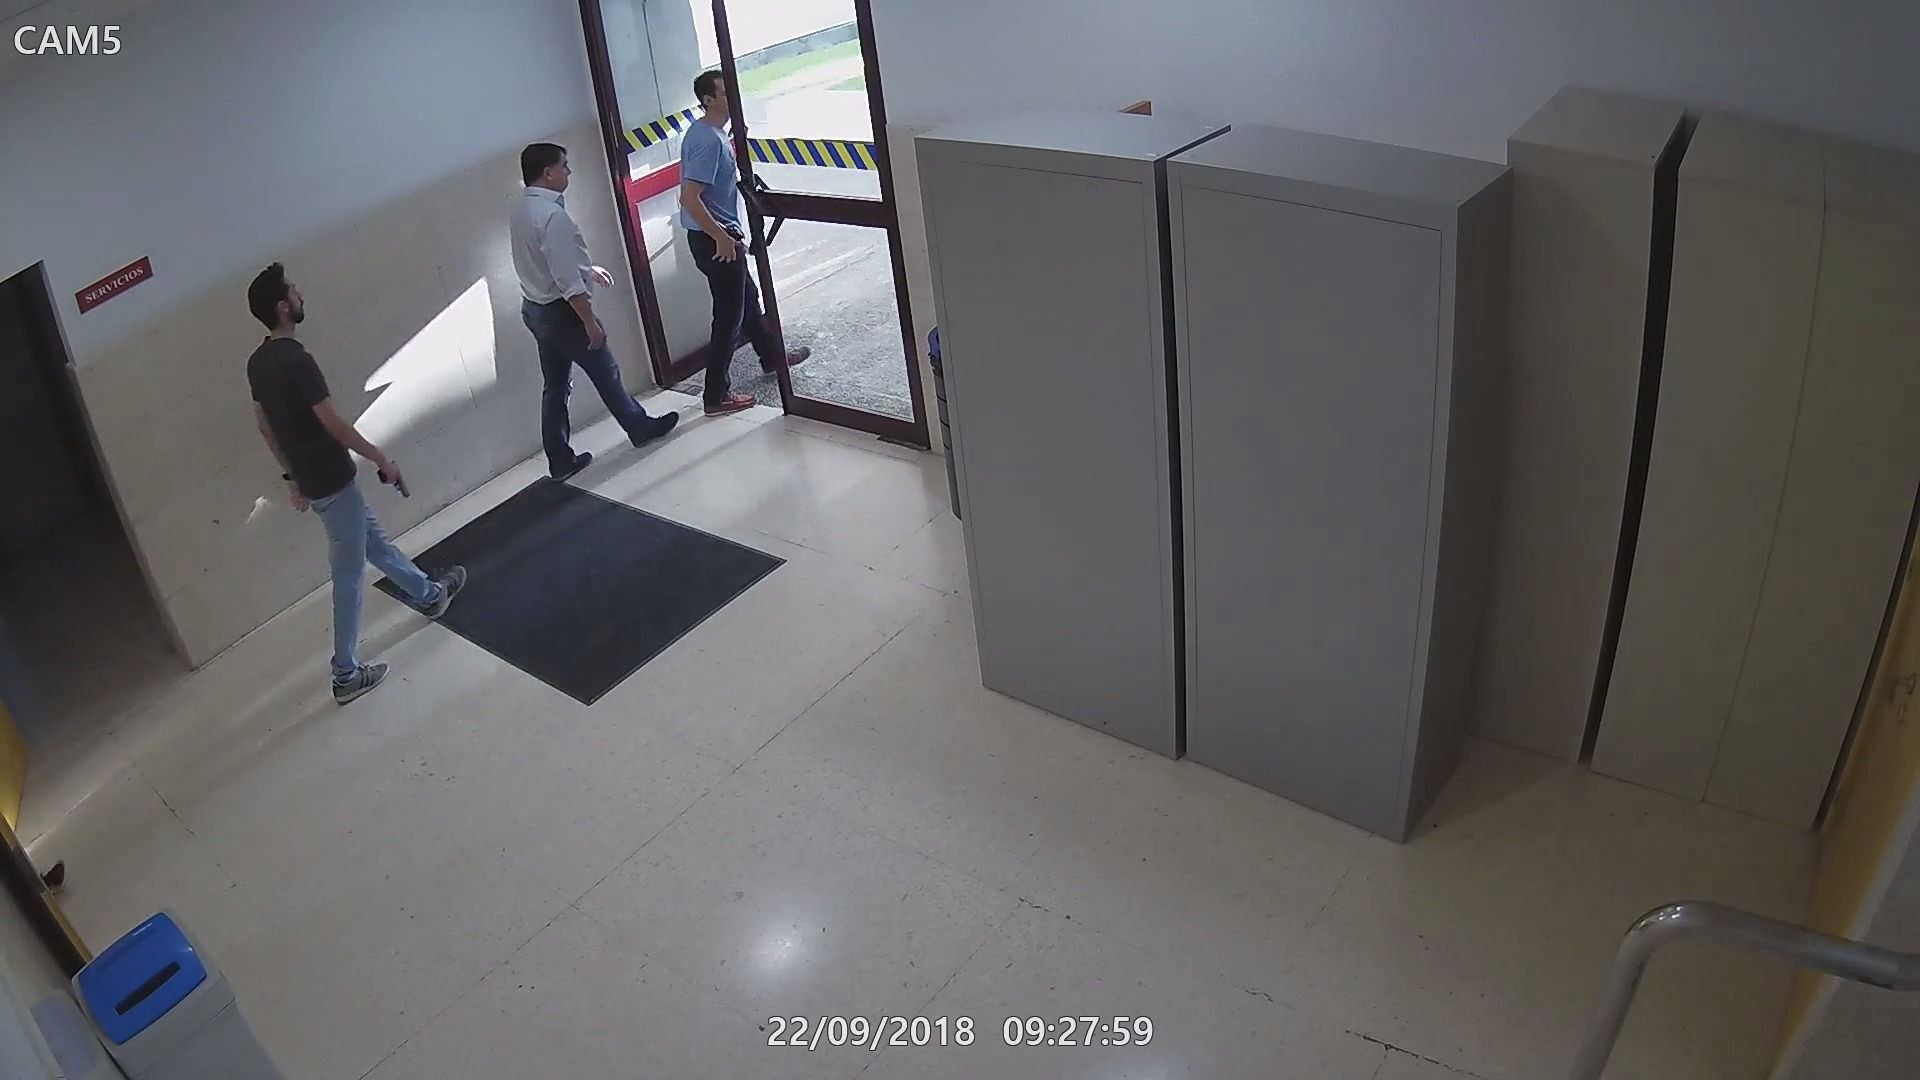Handgun: (372, 460, 415, 501), (723, 219, 746, 247)
